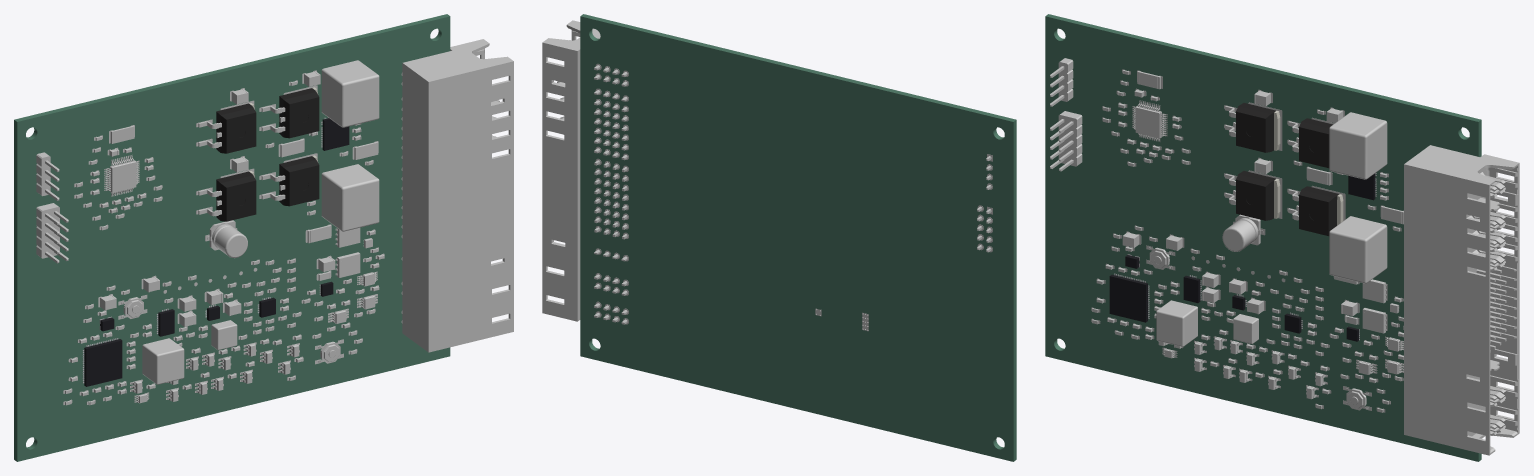
The model's file is board1.glb.
3 views of the same model, side by side, from view 1: azimuth 30°, elevation 25°; view 2: azimuth 150°, elevation 25°; view 3: azimuth 330°, elevation 25° (orthographic).
Parts seen in each view (by area): view 1: Board1_PCB, R_0603_1608Metric, a3dd6ad7-9c39-11ed-93f0-dde97e994e83_part, body; view 2: Board1_PCB, R_0603_1608Metric; view 3: Board1_PCB, R_0603_1608Metric, a3dd6ad7-9c39-11ed-93f0-dde97e994e83_part, body, a3dd6ad8-9c39-11ed-93f0-dde97e994e83_part.
Boxes of the visible parts, x1,y1,x2,y2 form: Board1_PCB: [14, 14, 450, 461]; R_0603_1608Metric: [36, 39, 513, 405]; a3dd6ad7-9c39-11ed-93f0-dde97e994e83_part: [216, 88, 319, 221]; body: [84, 118, 349, 386]; Board1_PCB: [580, 14, 1016, 461]; R_0603_1608Metric: [542, 20, 992, 331]; Board1_PCB: [1045, 14, 1481, 461]; R_0603_1608Metric: [1050, 58, 1519, 455]; a3dd6ad7-9c39-11ed-93f0-dde97e994e83_part: [1236, 103, 1339, 236]; body: [1109, 173, 1375, 341]; a3dd6ad8-9c39-11ed-93f0-dde97e994e83_part: [1274, 110, 1343, 225].
Size of the model in its own units: 130 by 90 by 15.62.
